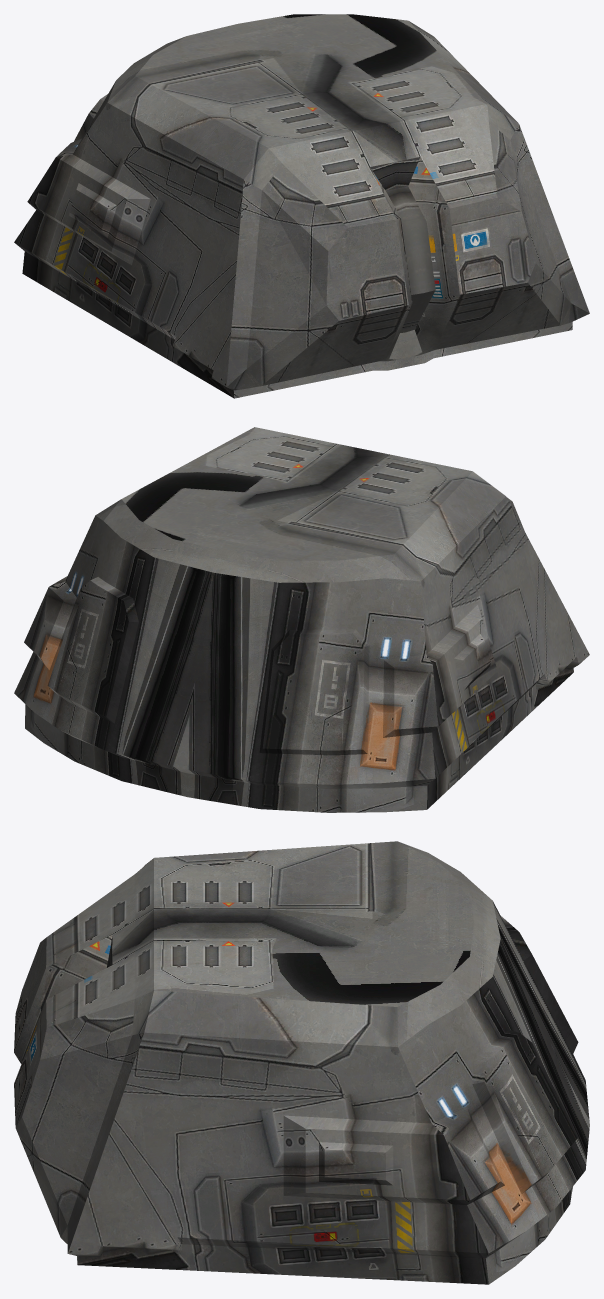
File: gun3-1.obj
3 views of the same model, one above another, from view 1: azimuth 30°, elevation 25°; view 2: azimuth 150°, elevation 25°; view 3: azimuth 270°, elevation 25° (orthographic). The views are drawn at different scales.
Visible parts, largest first — view 1: Tai_HeavyCruiserGun; view 2: Tai_HeavyCruiserGun; view 3: Tai_HeavyCruiserGun.
Part boxes in pixels (x1=…): Tai_HeavyCruiserGun: x1=14, y1=14, x2=589, y2=398; Tai_HeavyCruiserGun: x1=14, y1=427, x2=589, y2=812; Tai_HeavyCruiserGun: x1=14, y1=841, x2=589, y2=1284.
Size of the model in its own units: 41.65 by 21.28 by 42.93.
Materials: 1 (1 with a texture image).
